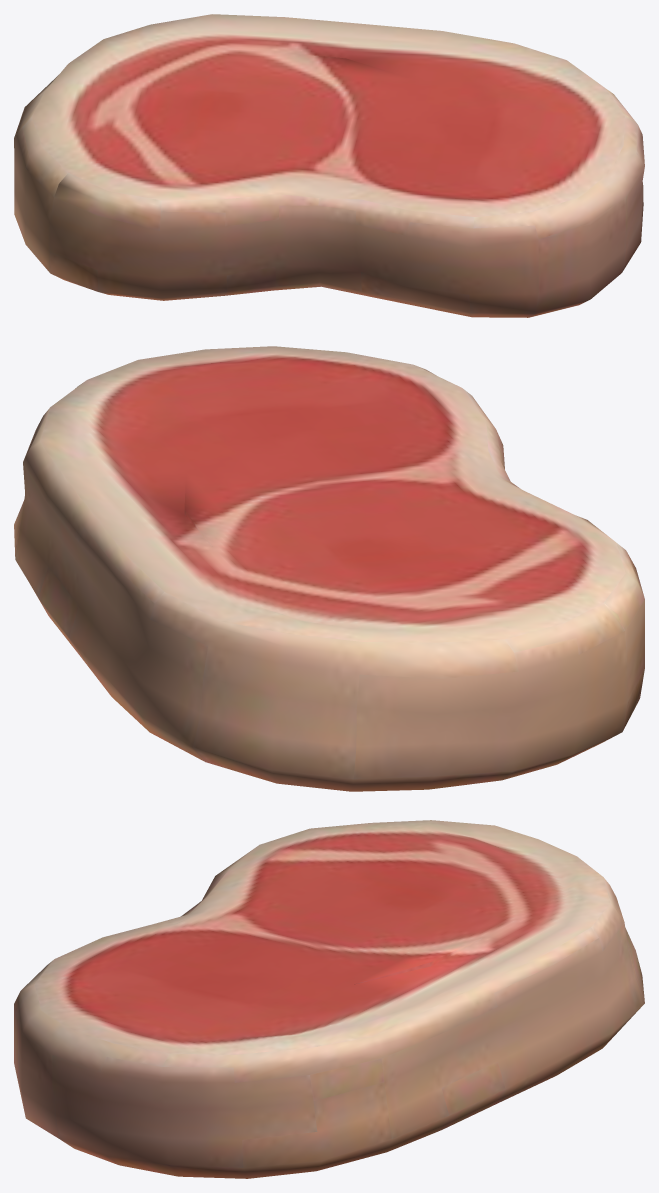
The model's file is beef.glb.
3 views of the same model, one above another, from view 1: azimuth 30°, elevation 25°; view 2: azimuth 150°, elevation 25°; view 3: azimuth 270°, elevation 25° (orthographic). The views are drawn at different scales.
Parts seen in each view (by area): view 1: Beef; view 2: Beef; view 3: Beef.
Part boxes in pixels (x1,y1,x2,y2): Beef: (14, 14, 644, 317); Beef: (14, 346, 644, 791); Beef: (14, 820, 644, 1178).
Bounding box in the file's own units: 2.01 × 0.511 × 1.98.
1 material, 1 textured.
